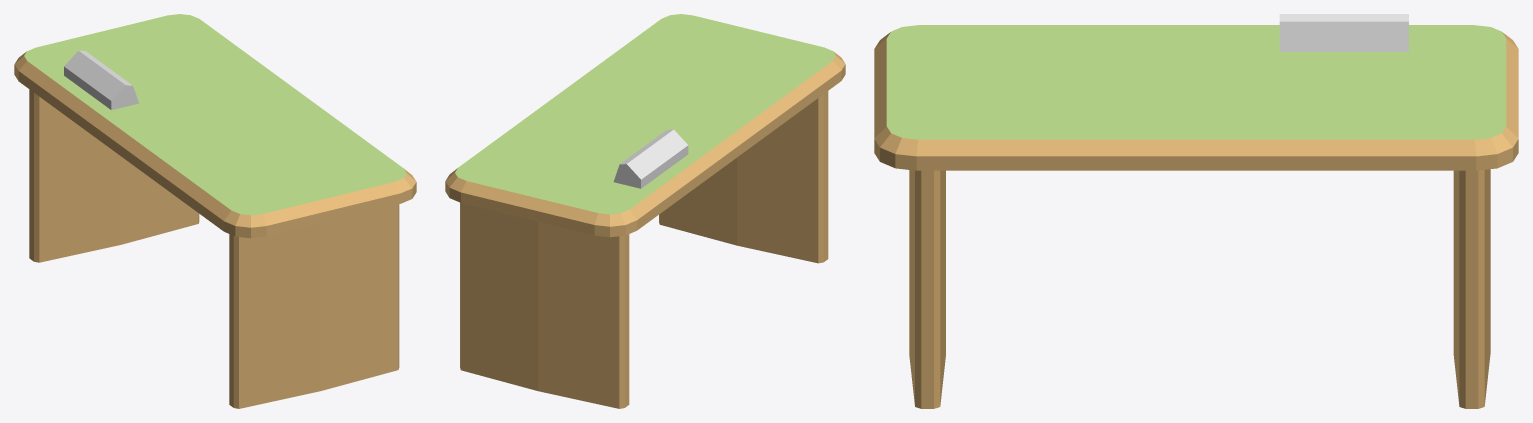
The model's file is TeacherDesk.fbx.
3 views of the same model, side by side, from view 1: azimuth 30°, elevation 25°; view 2: azimuth 150°, elevation 25°; view 3: azimuth 270°, elevation 25° (orthographic). The views are drawn at different scales.
Parts seen in each view (by area): view 1: TeacherDesk; view 2: TeacherDesk; view 3: TeacherDesk.
Part boxes in pixels (x1=…): TeacherDesk: x1=14, y1=14, x2=416, y2=408; TeacherDesk: x1=445, y1=14, x2=845, y2=408; TeacherDesk: x1=874, y1=14, x2=1518, y2=408.
Bounding box in the file's own units: 0.6895 × 0.7721 × 1.5.
